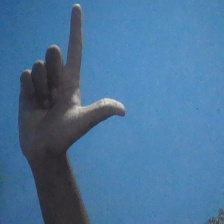L: (16, 2, 129, 163)
